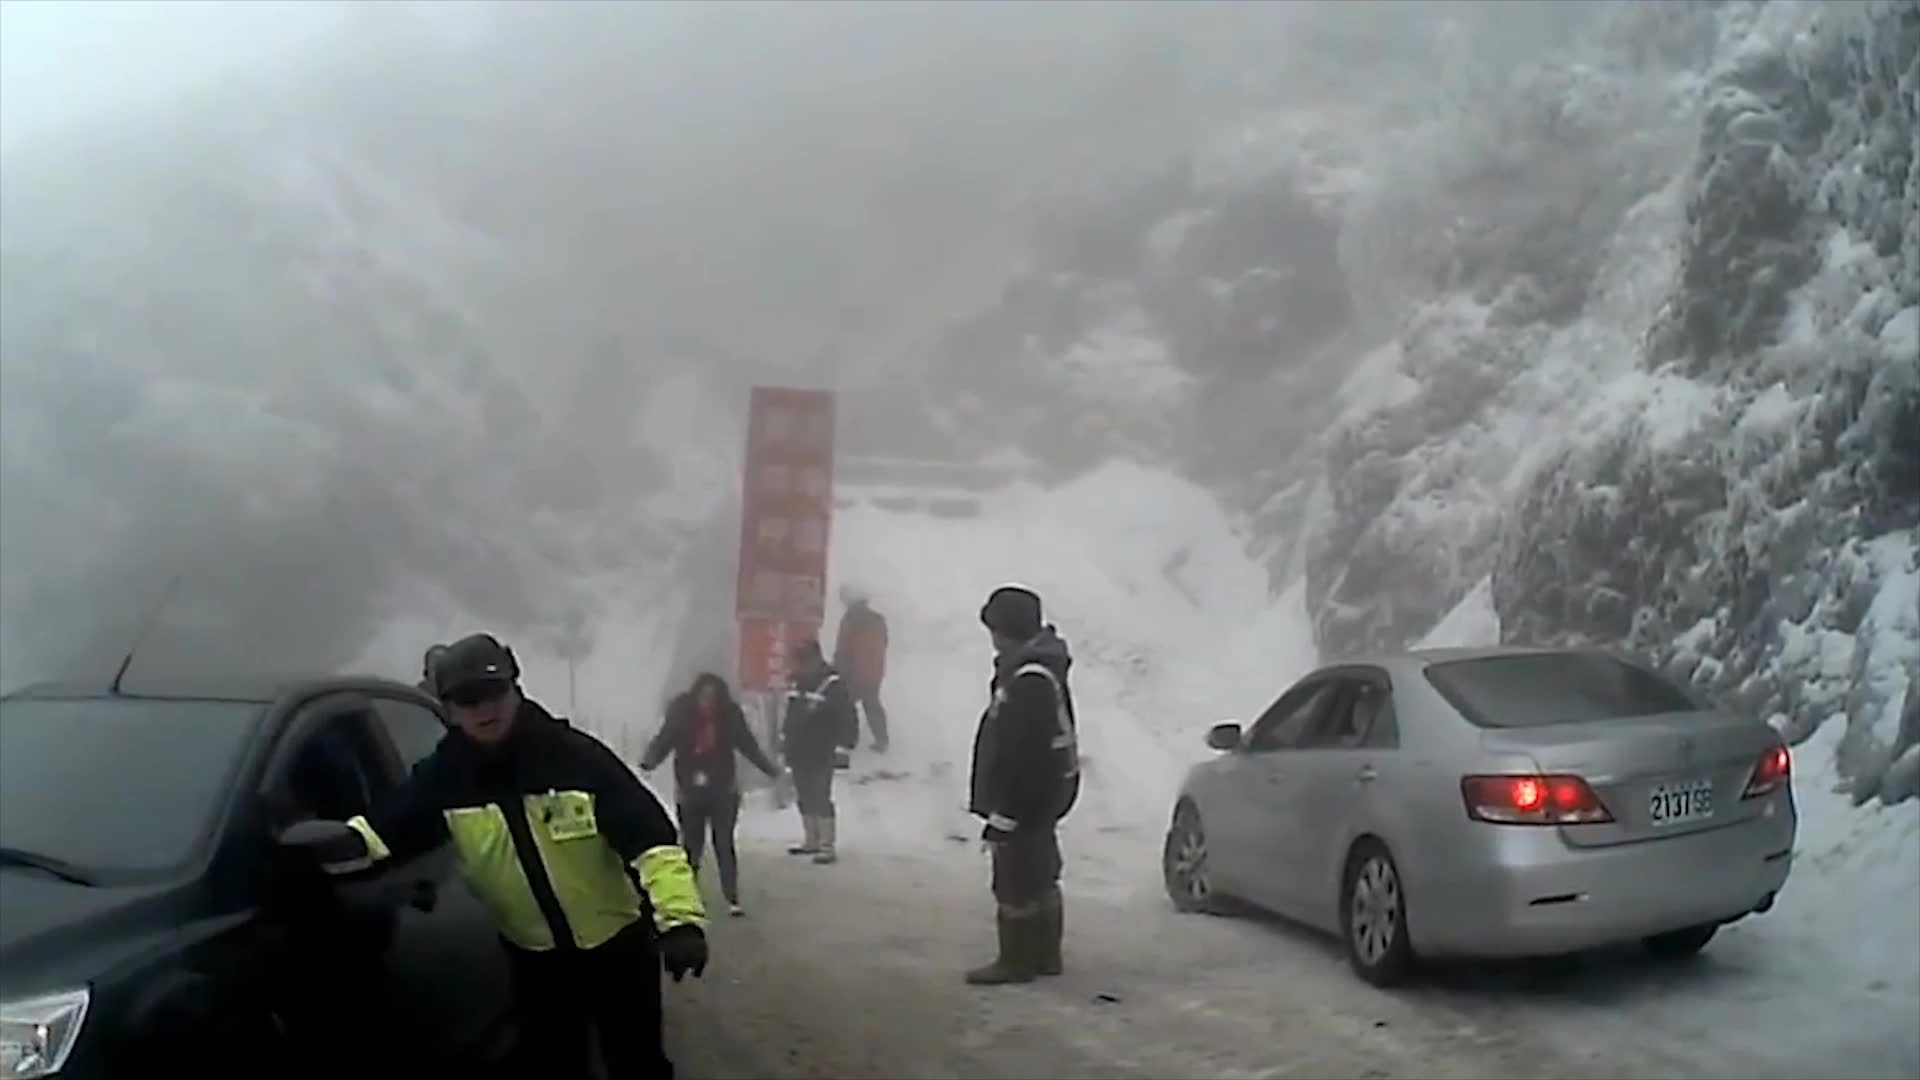pedestrian: (304, 635, 726, 1080), (954, 585, 1085, 984), (640, 671, 785, 925), (391, 647, 512, 922), (783, 641, 859, 864), (830, 578, 892, 748)
vehicle: (0, 668, 584, 1080), (1159, 638, 1798, 985)
